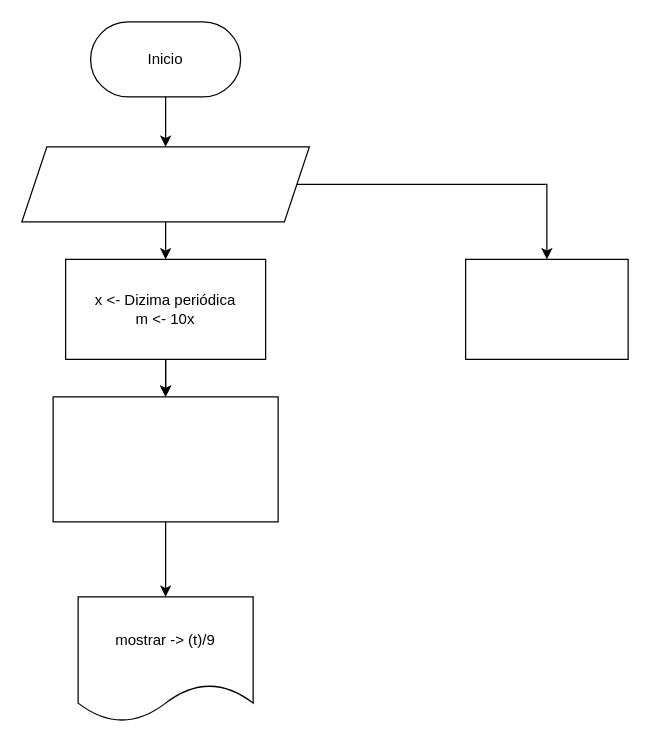
The diagram is 650 pixels wide and 744 high, and some of its shapes have lost their labels. Each missing label, with the box of its shape:
Dizima periódica: (21, 146, 309, 222)
t <- m - x v <- (10x) - x: (52, 396, 278, 522)
